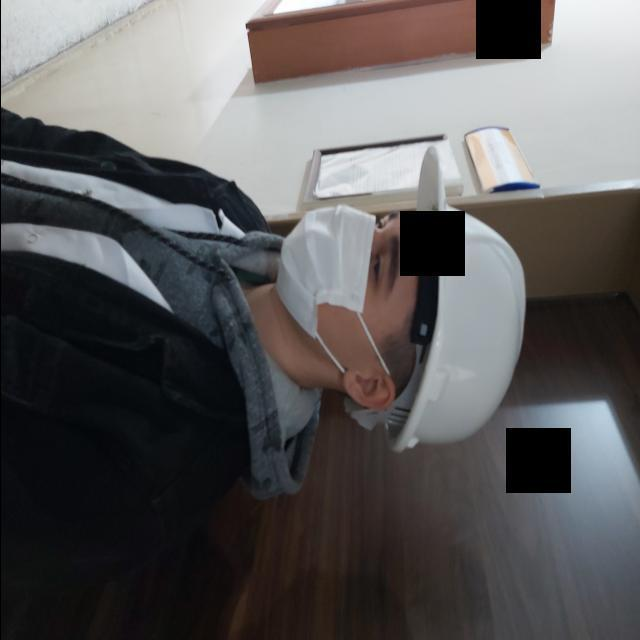helmet: (371, 126, 536, 496)
